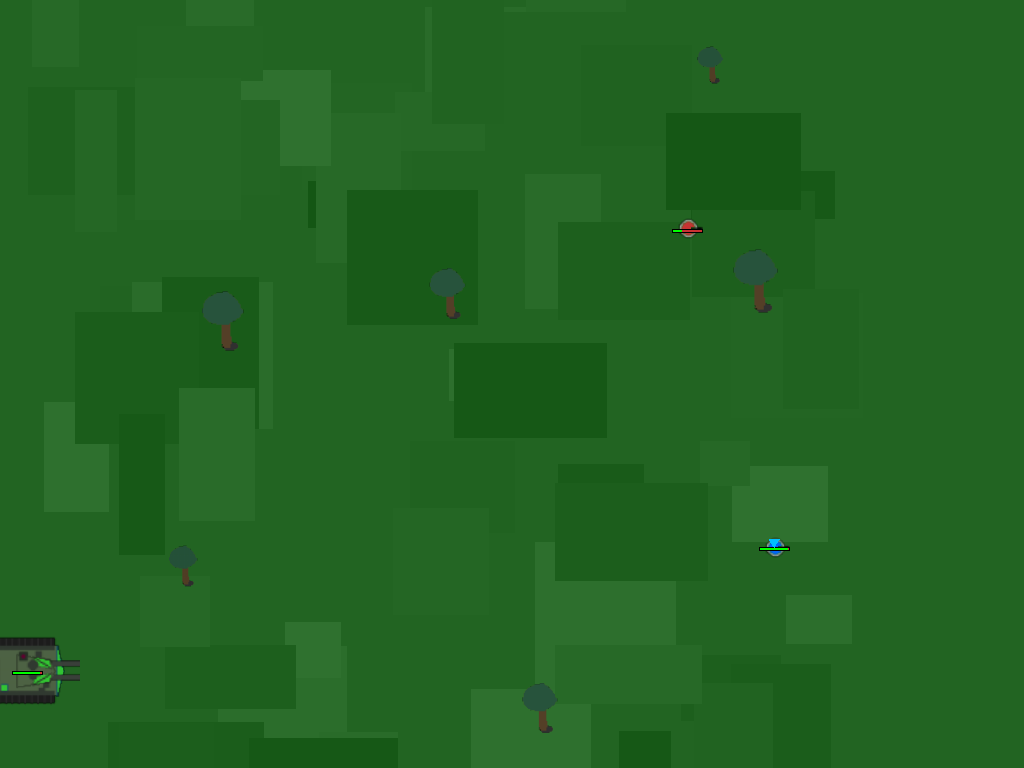MiningRig: (0, 634, 71, 705)
PowerPlant: (756, 528, 793, 565), (669, 209, 706, 246)
